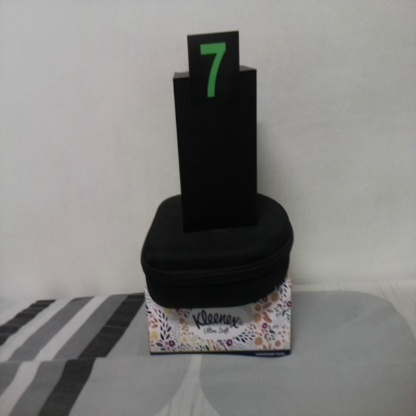id_7: (187, 35, 240, 120)
